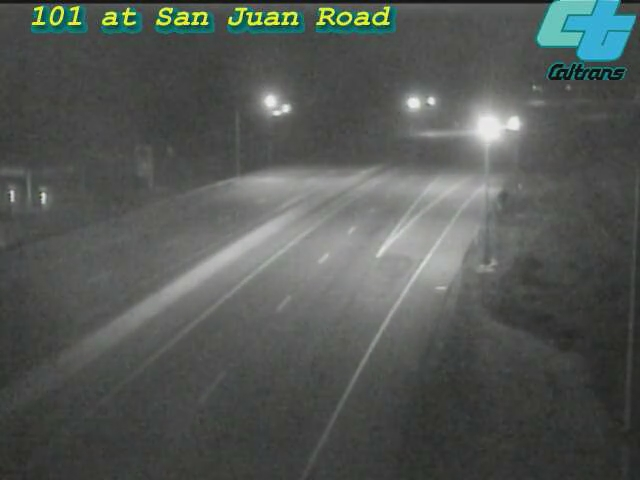vehicle: (462, 101, 512, 151), (490, 98, 540, 148)
